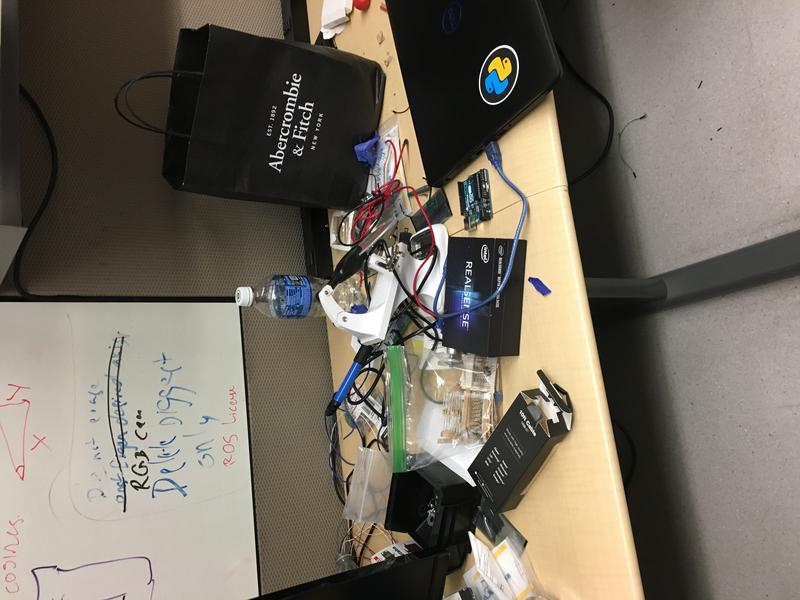bottle: (235, 274, 371, 322)
